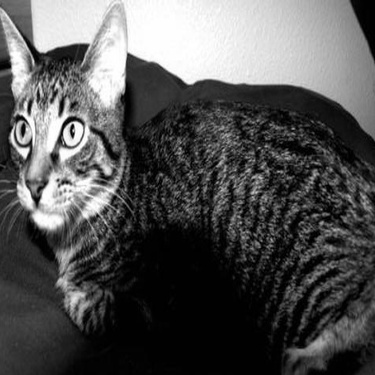cat: (1, 1, 370, 372)
